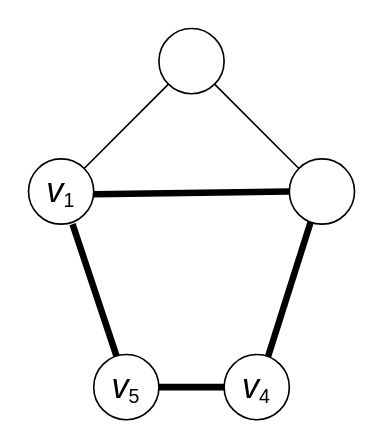
Image size: 383x448. Some labels were removed from this diagram. Each missing label, with the centre of its shape:
"v 2" belongs at point 190,60.
"v 3" belongs at point 321,190.
